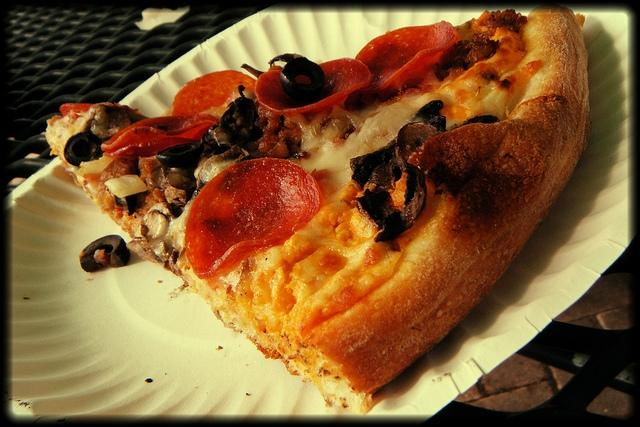mushroom: (349, 136, 408, 192), (395, 121, 443, 174), (80, 234, 132, 272), (401, 163, 426, 231), (166, 168, 197, 204), (106, 188, 138, 216), (144, 209, 168, 240), (164, 186, 187, 206), (213, 125, 234, 146)
